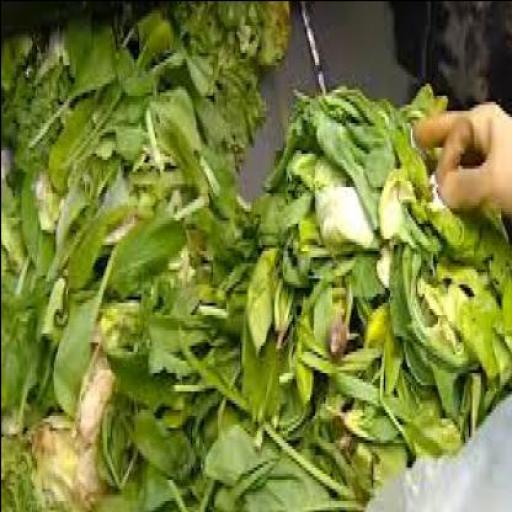biodegradable: (0, 156, 238, 509), (268, 186, 435, 452), (1, 2, 288, 156), (228, 189, 311, 509), (261, 82, 444, 189), (434, 207, 510, 454), (310, 451, 368, 509)
